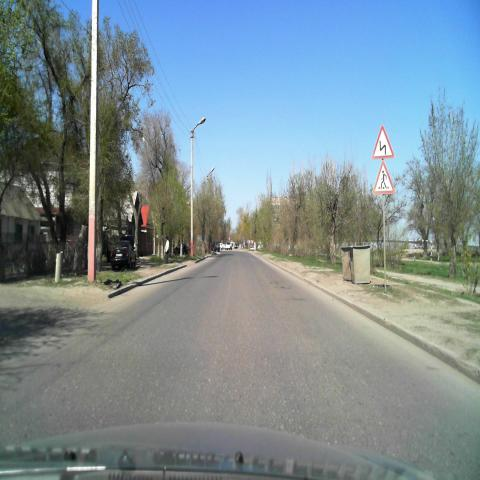1_12_2: (372, 124, 394, 159)
1_22: (373, 160, 395, 193)
